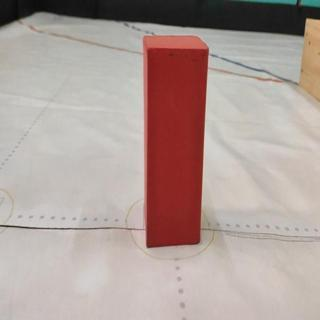redbox: (143, 34, 210, 250)
